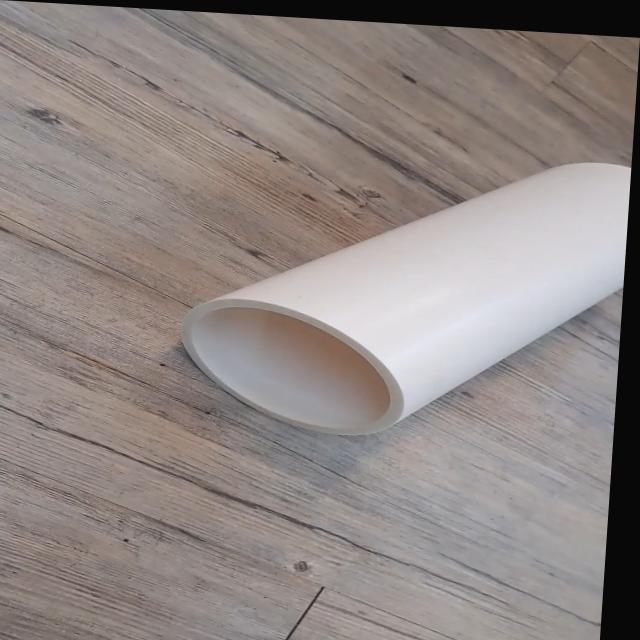CORAL: (168, 131, 632, 459)
